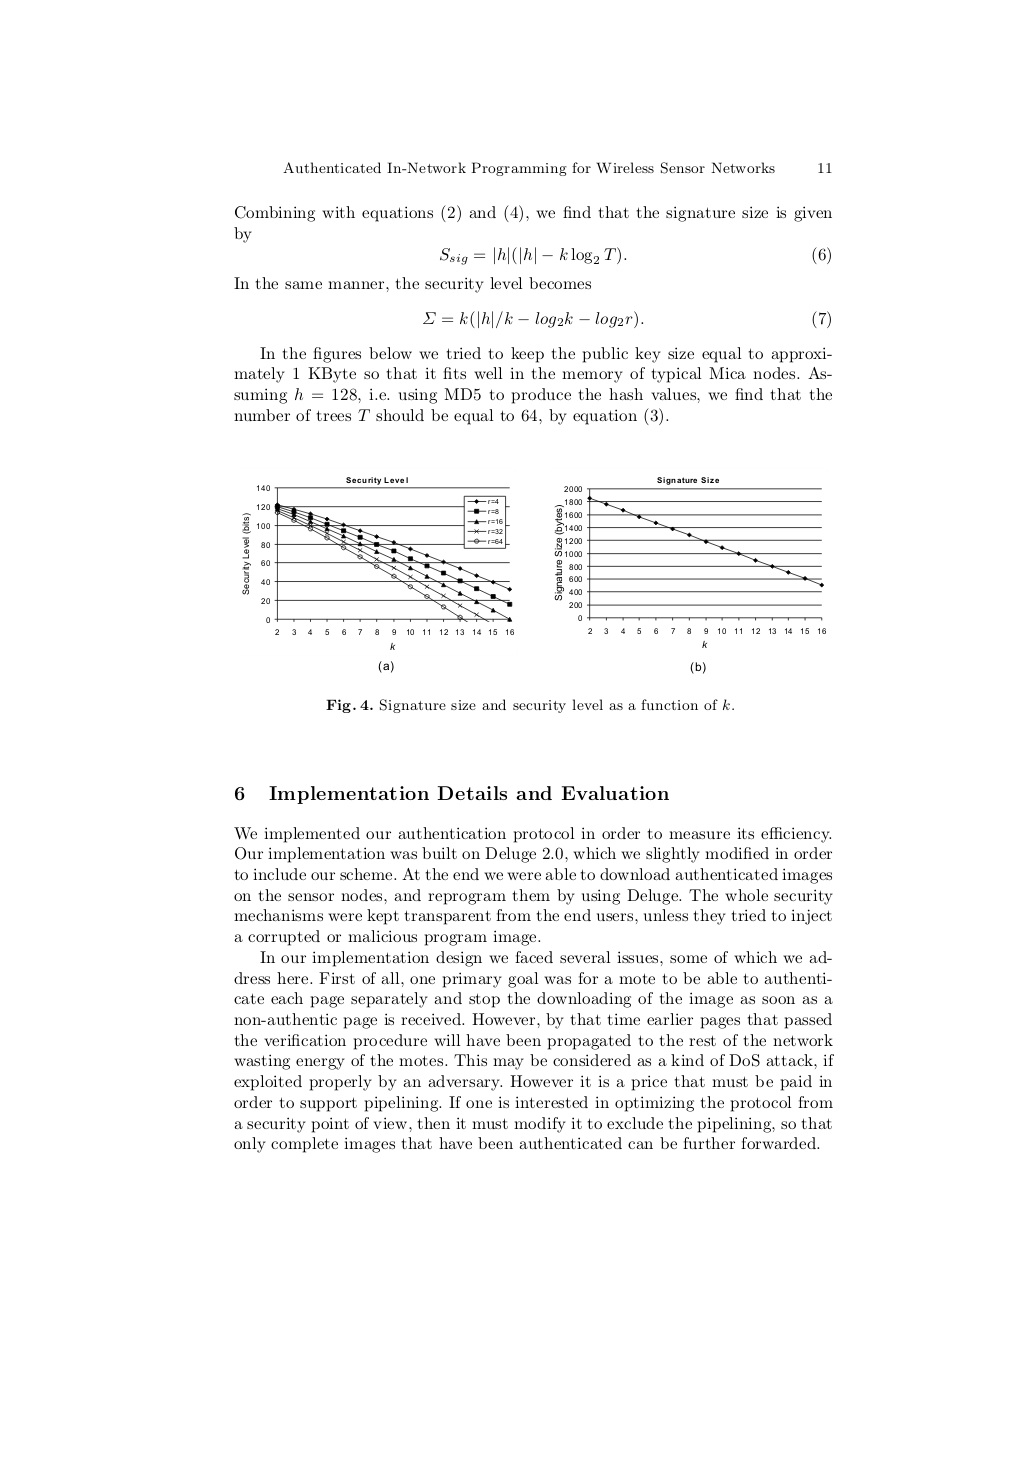figure: (242, 477, 513, 649), (555, 477, 825, 647)
formula: (423, 310, 830, 329), (440, 247, 830, 265)
